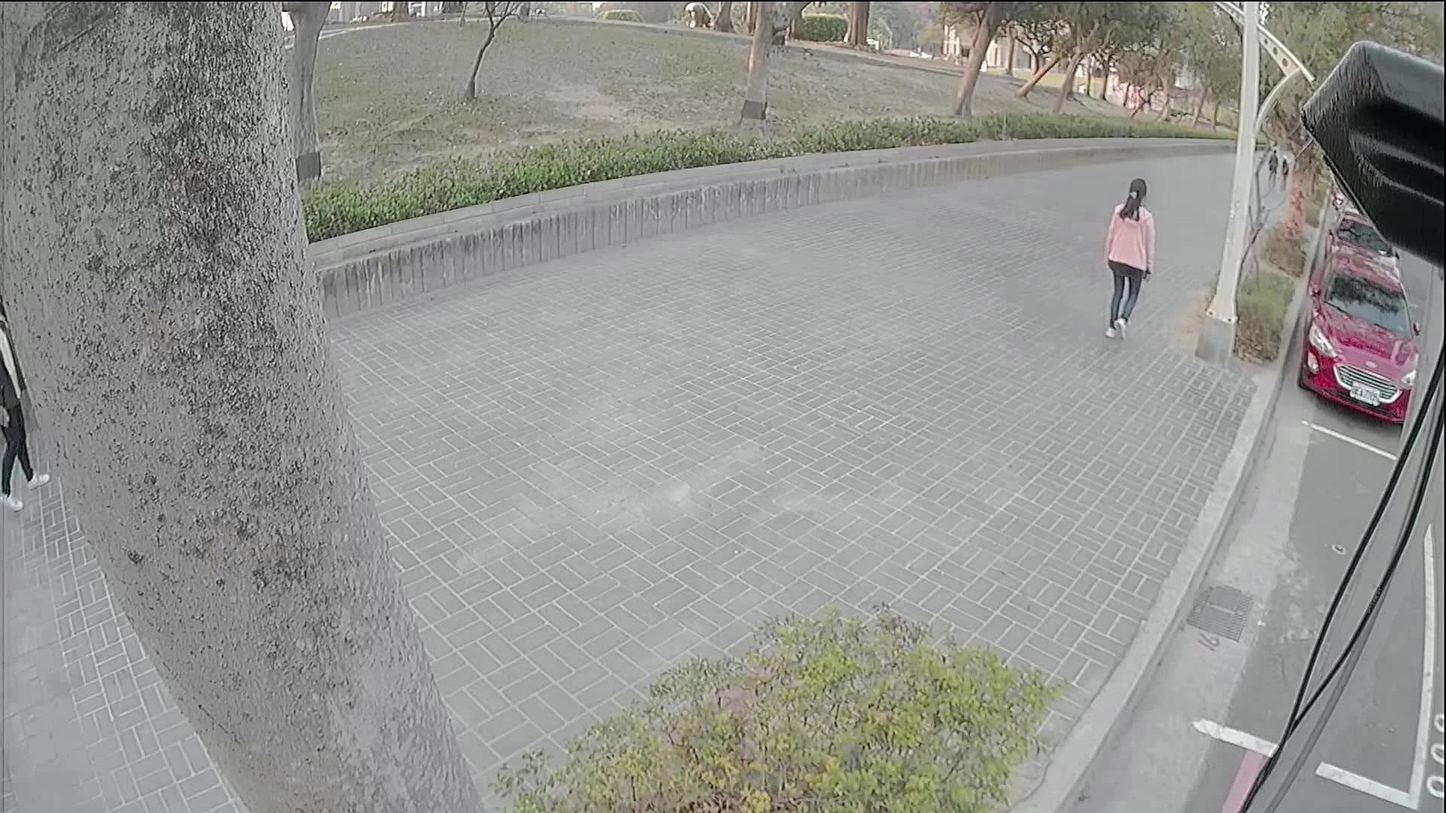person: (0, 315, 48, 511), (1103, 175, 1155, 336)
